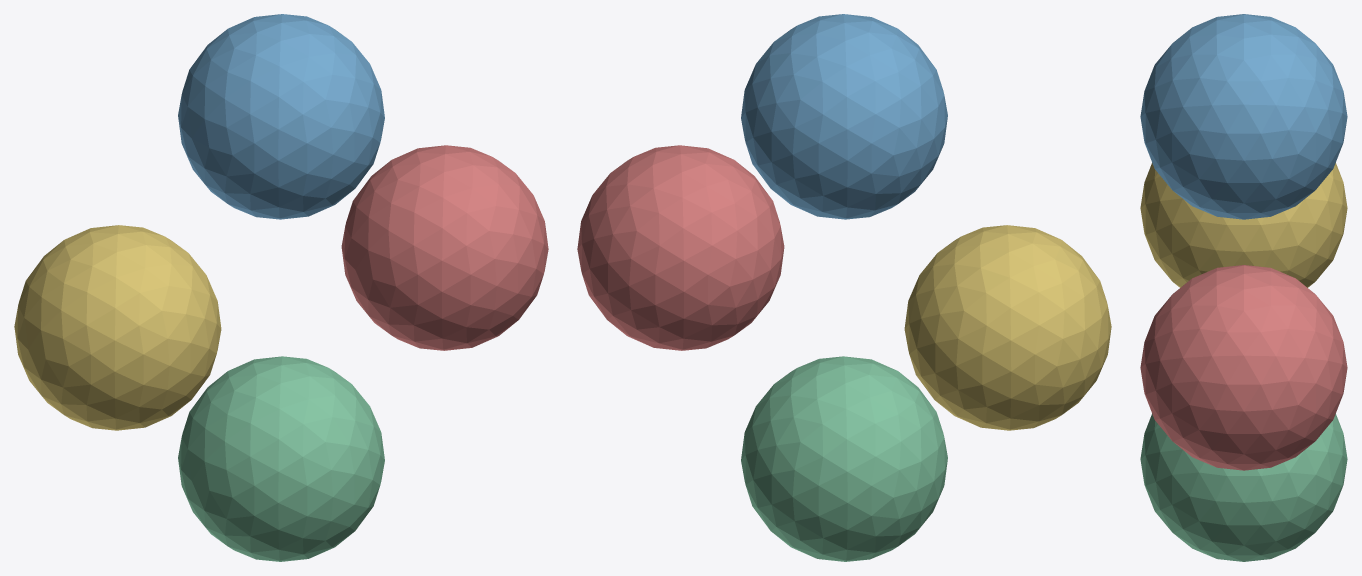
Rendered from count4.glb.
3 renders of one model, left to right at view 1: azimuth 30°, elevation 25°; view 2: azimuth 150°, elevation 25°; view 3: azimuth 270°, elevation 25°, orthographic.
Visible parts, largest first — view 1: geometry_0; view 2: geometry_0; view 3: geometry_0.
Boxes of the visible parts, x1,y1,x2,y2 form: geometry_0: [14, 14, 548, 561]; geometry_0: [577, 14, 1111, 561]; geometry_0: [1140, 14, 1347, 561].
Size of the model in its own units: 0.9157 by 0.9157 by 0.3243.
